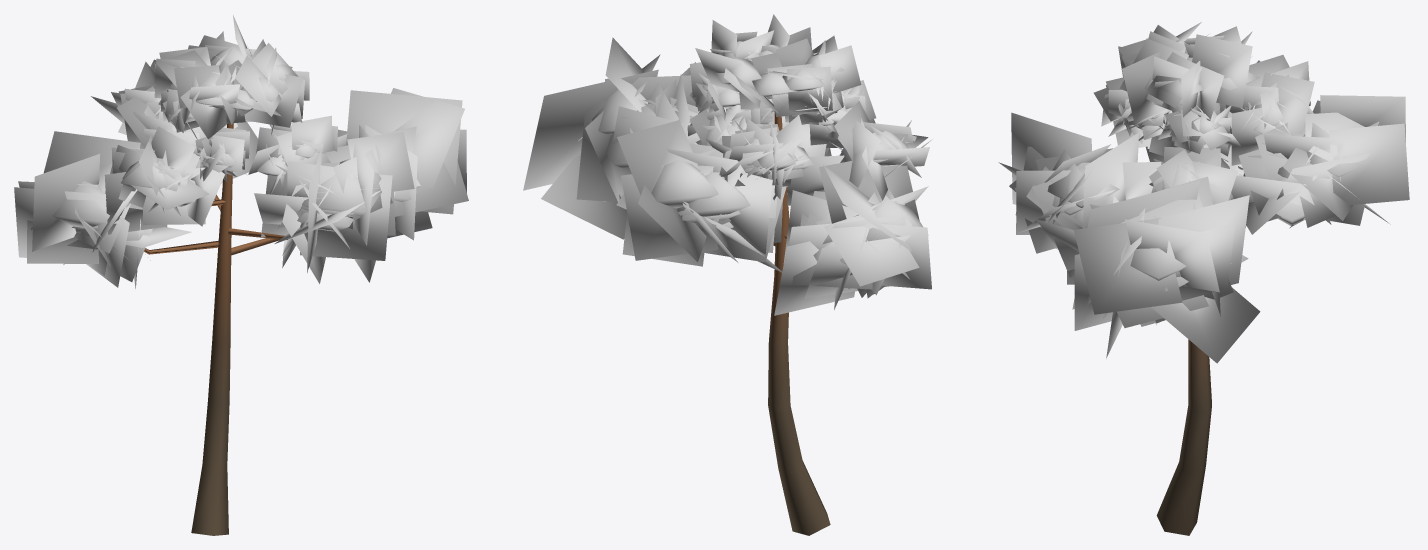
The picture shows the model from 3 angles, left to right: view 1: azimuth 30°, elevation 25°; view 2: azimuth 150°, elevation 25°; view 3: azimuth 270°, elevation 25°; orthographic projection. The views are drawn at different scales.
Visible parts, largest first — view 1: crown, trunk; view 2: crown, trunk; view 3: crown, trunk.
Part boxes in pixels (x1,y1,x2,y2): crown: (14, 15, 468, 288); trunk: (144, 123, 287, 535); crown: (523, 14, 932, 315); trunk: (768, 111, 830, 535); crown: (998, 22, 1409, 363); trunk: (1156, 339, 1211, 535).
Bounding box in the file's own units: 17.89 × 19.48 × 14.29.
